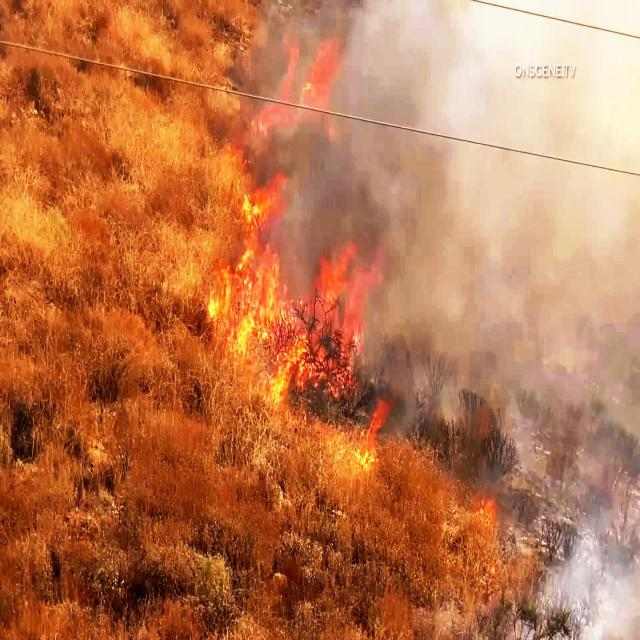Fire: (211, 36, 390, 456)
Smoke: (438, 140, 640, 569), (380, 16, 502, 346)
